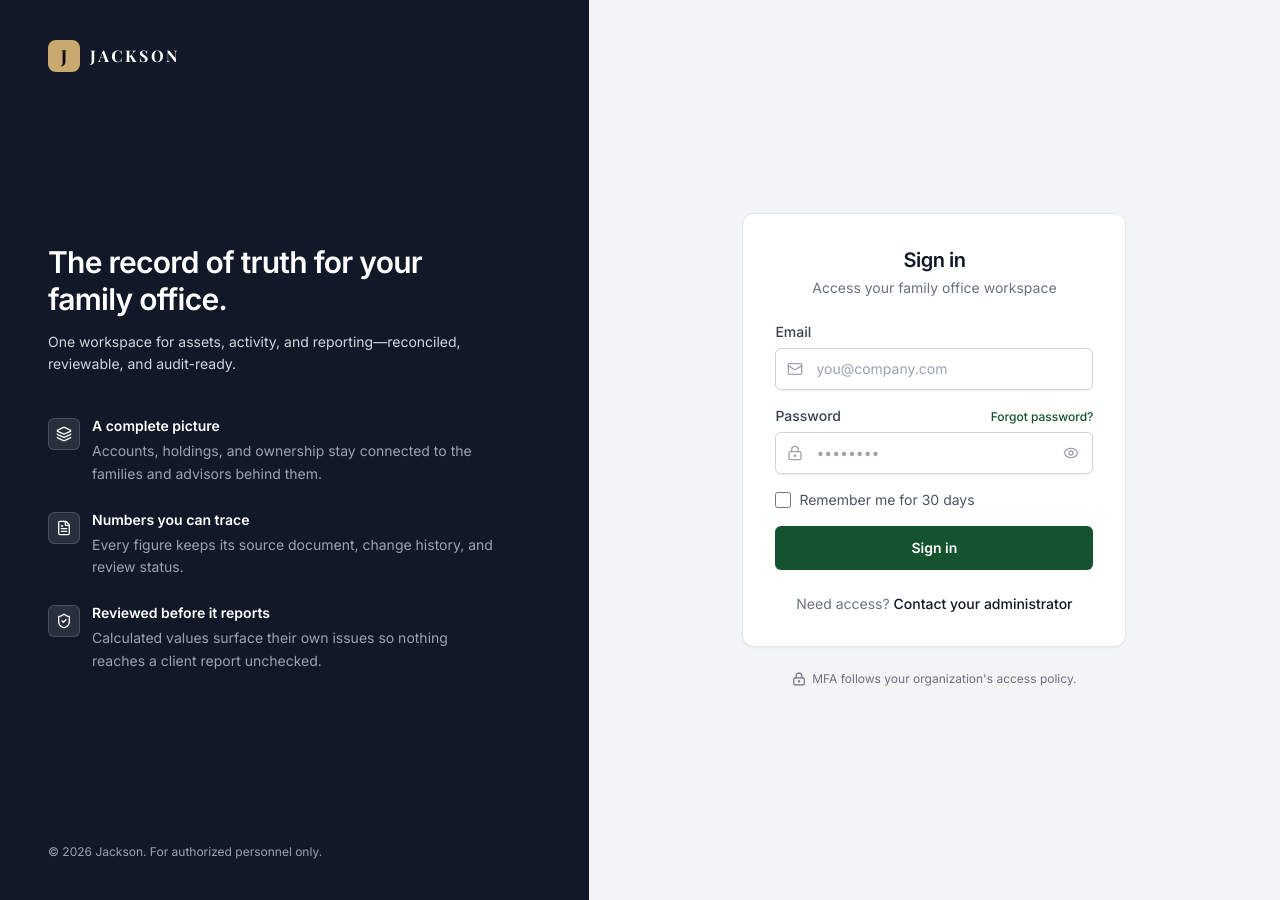
Test: LoginPage current flow › stores challenge state and opens MFA verification without authenticating
This screenshot has width=1280, height=900.
Type "advisor@example.com" into the field labelled "Email" at (934, 369), box [775,348,1093,390]
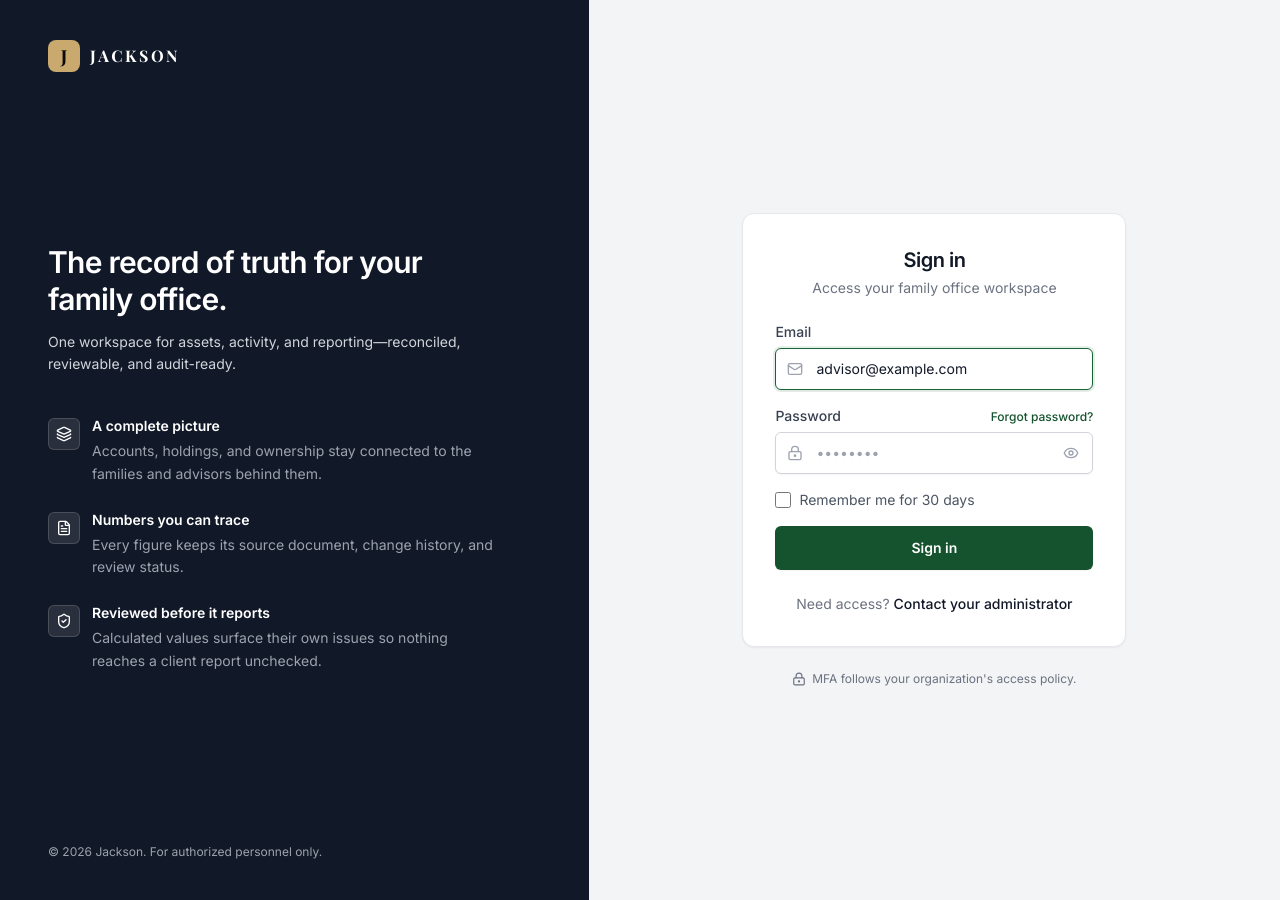
Type "Password123!" into the password field labelled "Password" at (934, 453), box [775,432,1093,474]
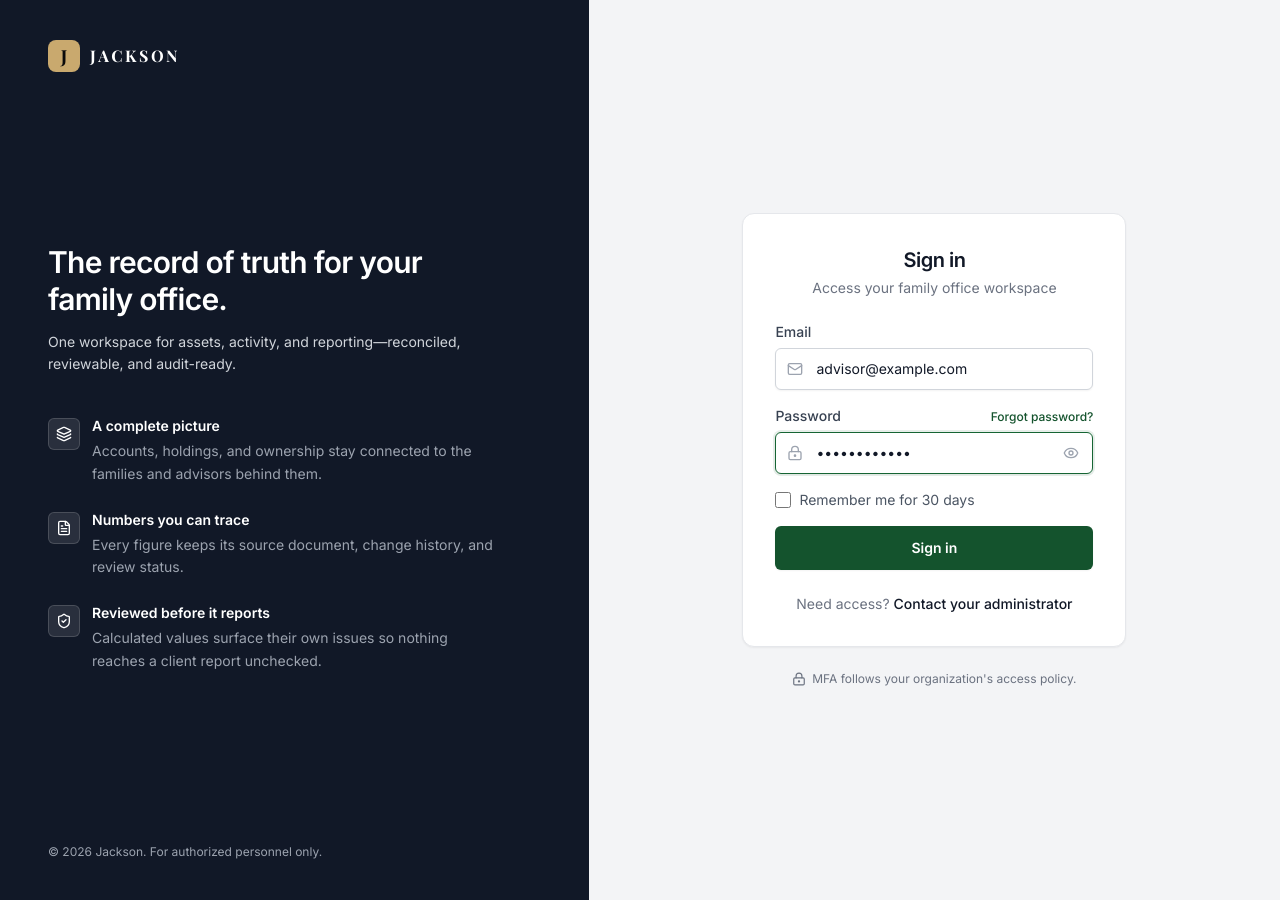
Click the button "Sign in" at (934, 548), box [775,526,1093,570]
(page scrolled)
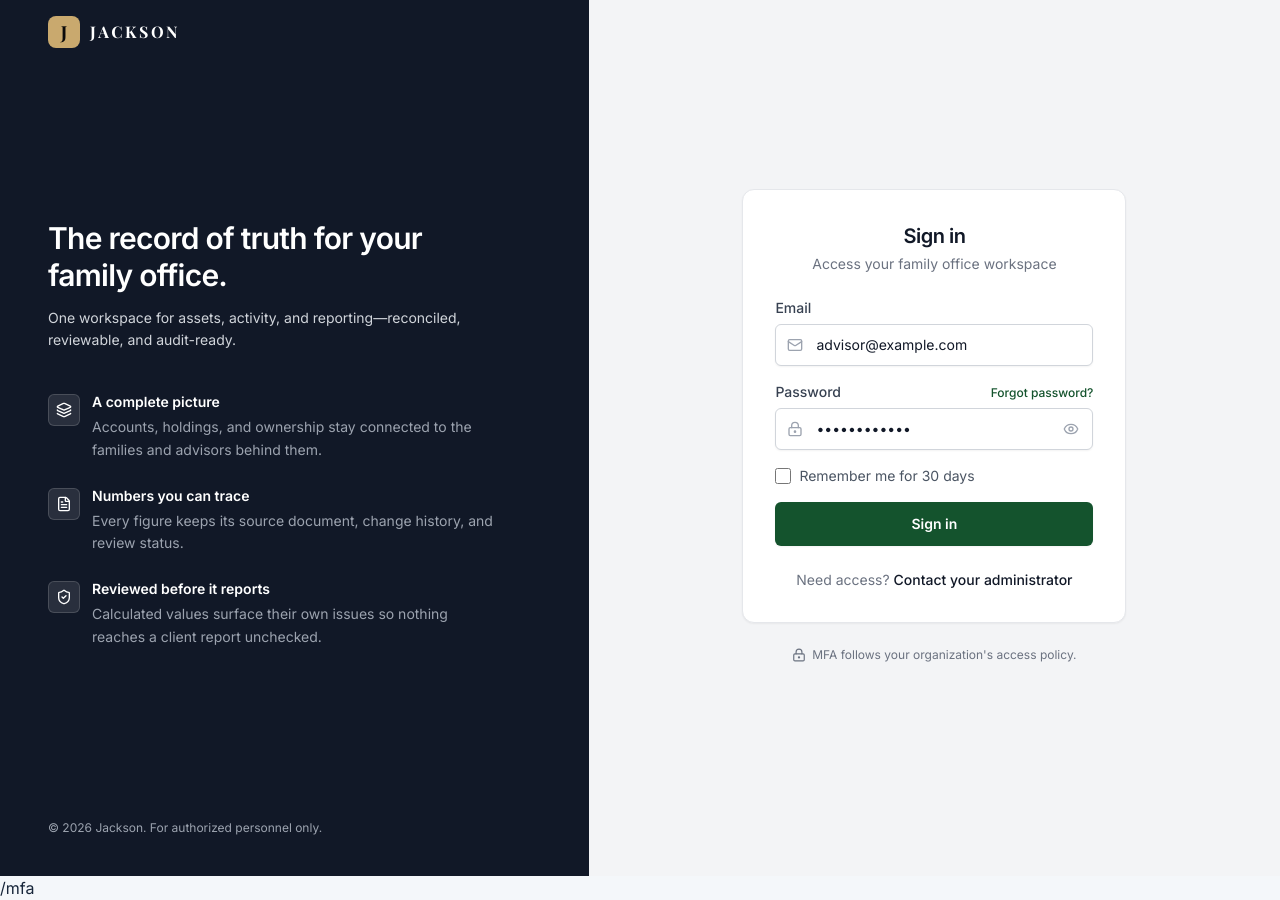
expect the text with test id "current-location" reads "/mfa": met, box [0,878,34,898]
